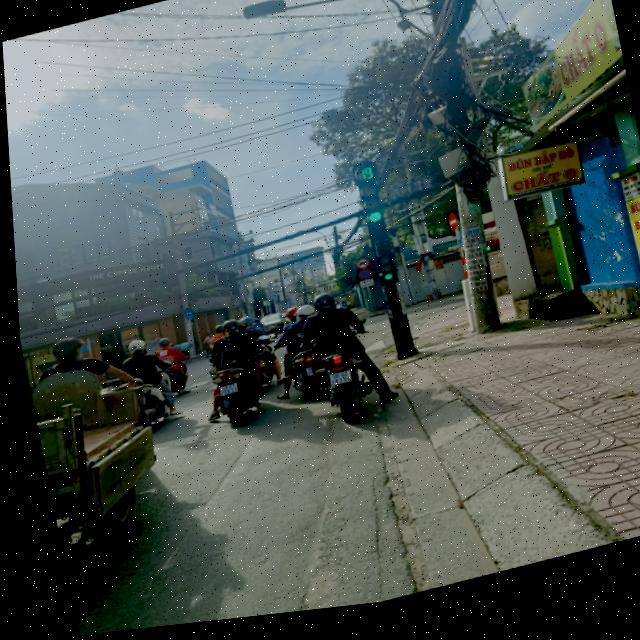Green: (349, 184, 387, 238), (368, 257, 396, 298)
